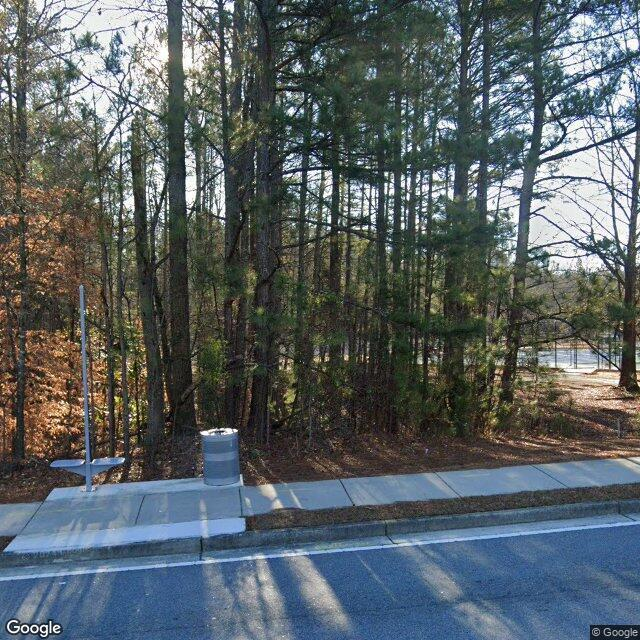seating: (49, 457, 126, 492)
trash_can: (201, 428, 240, 487)
